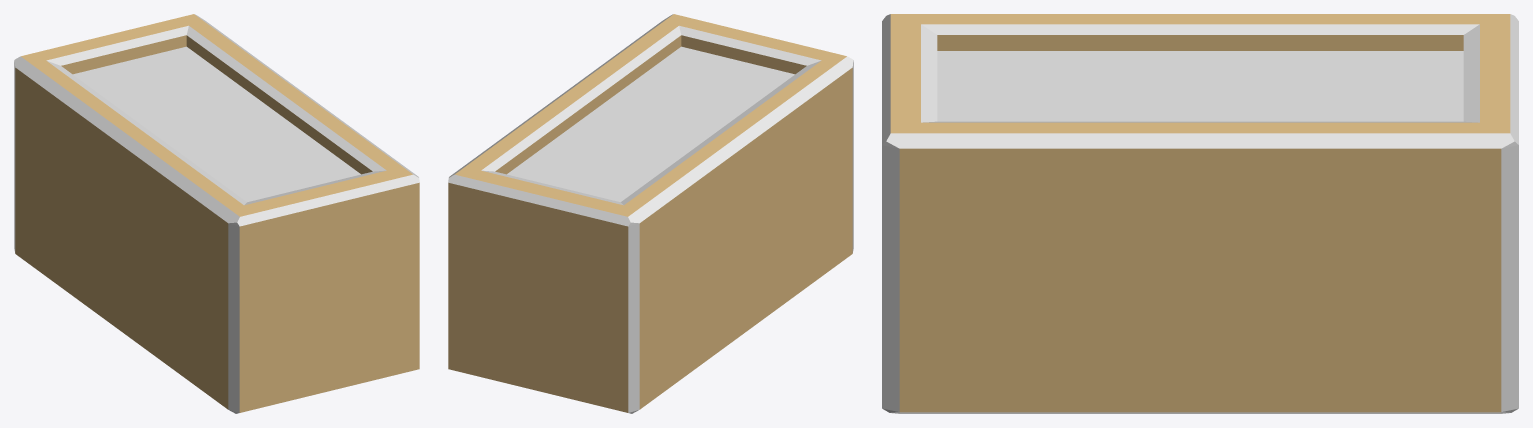
File: Soap.fbx
The picture shows the model from 3 angles, left to right: view 1: azimuth 30°, elevation 25°; view 2: azimuth 150°, elevation 25°; view 3: azimuth 270°, elevation 25°; orthographic projection. The views are drawn at different scales.
Parts seen in each view (by area): view 1: Soap; view 2: Soap; view 3: Soap.
Boxes of the visible parts, bbox=[...] form: Soap: bbox=[14, 14, 419, 413]; Soap: bbox=[448, 14, 853, 413]; Soap: bbox=[882, 14, 1518, 413].
Size of the model in its own units: 0.2001 by 0.0976 by 0.0976.
